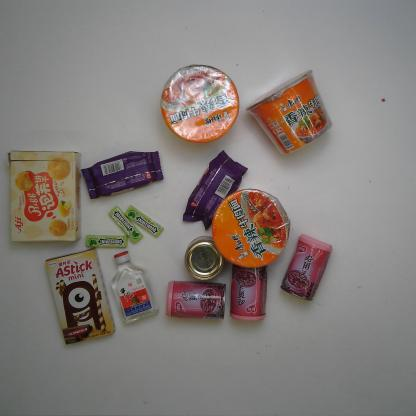Alcohol: (108, 250, 158, 326)
Canned Food: (280, 230, 335, 303), (229, 256, 268, 323), (166, 280, 226, 321), (183, 237, 224, 282)
Dessert: (5, 148, 84, 243), (42, 247, 116, 346), (181, 150, 251, 230), (81, 151, 165, 199)
Gum: (122, 204, 166, 239), (106, 207, 144, 247), (84, 234, 130, 250)
Instant Noodles: (245, 65, 334, 156), (159, 59, 242, 144), (209, 187, 292, 270)
